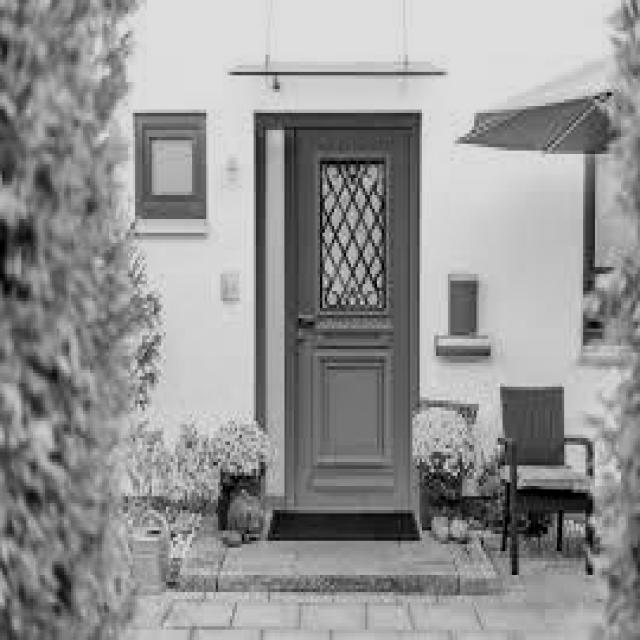door: (245, 97, 440, 525)
